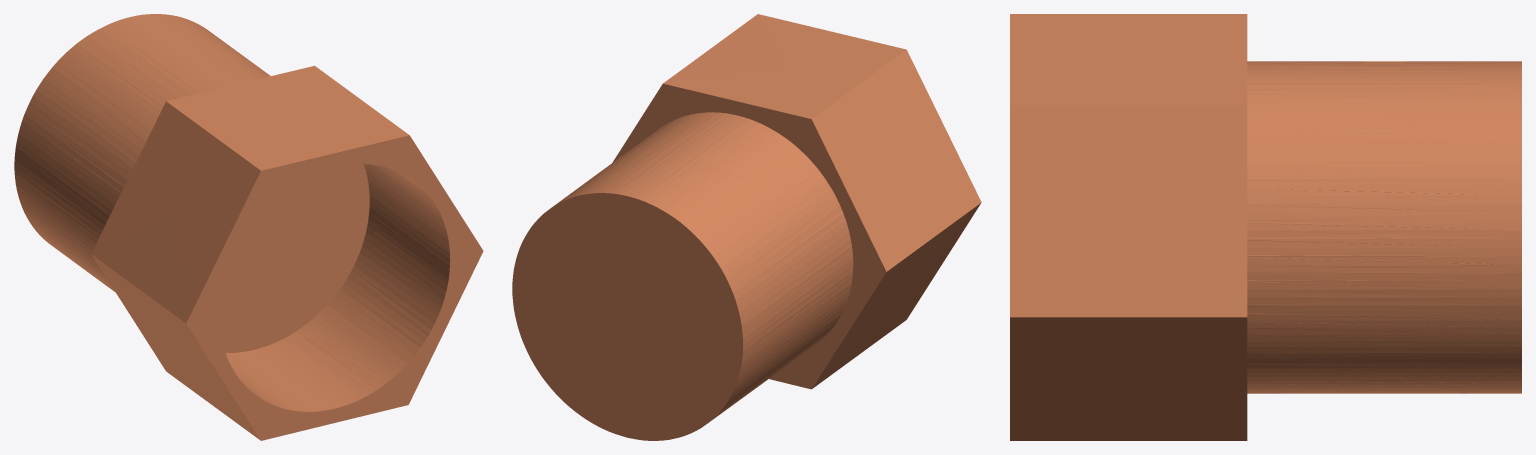
Rendered from Standoff.obj.
3 views of the same model, side by side, from view 1: azimuth 30°, elevation 25°; view 2: azimuth 150°, elevation 25°; view 3: azimuth 270°, elevation 25° (orthographic). The views are drawn at different scales.
Parts seen in each view (by area): view 1: Object.1; view 2: Object.1; view 3: Object.1.
Part boxes in pixels (left/top/right/bottom): Object.1: left=14, top=14, right=483, bottom=440; Object.1: left=512, top=14, right=981, bottom=440; Object.1: left=1010, top=14, right=1521, bottom=440.
Bounding box in the file's own units: 54.26 × 47.1 × 64.82.
